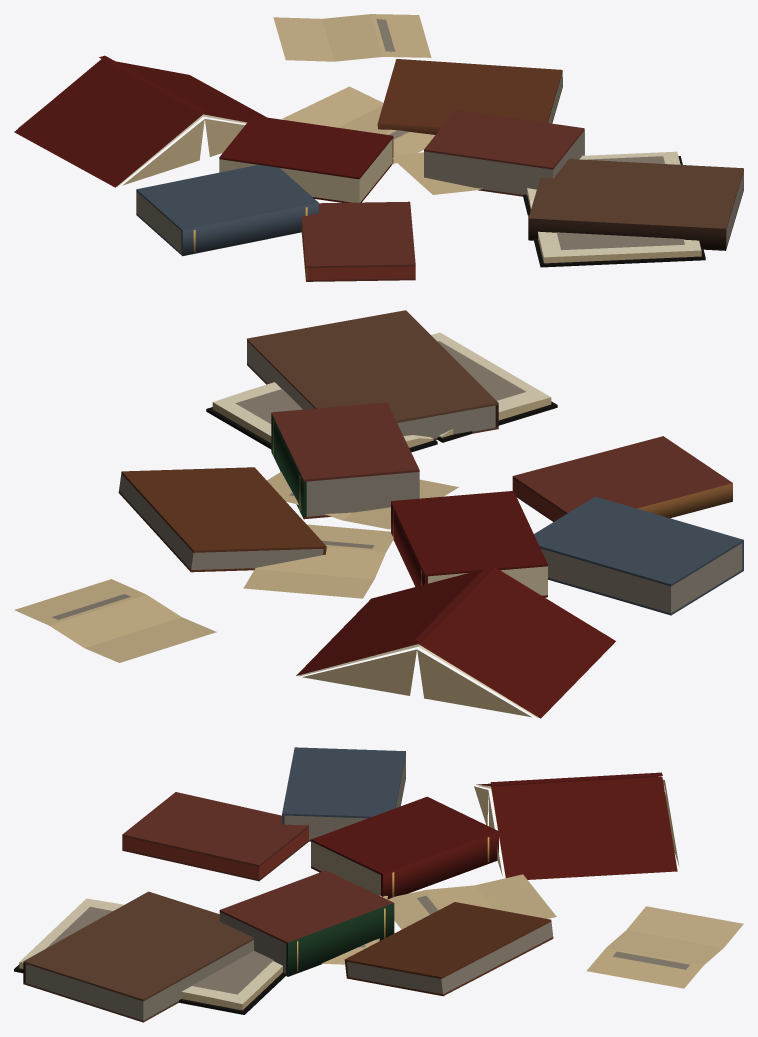
The model's file is books_fallen.glb.
3 renders of one model, top to bottom at view 1: azimuth 30°, elevation 25°; view 2: azimuth 150°, elevation 25°; view 3: azimuth 270°, elevation 25°, orthographic. The views are drawn at different scales.
Visible parts, largest first — view 1: buecher; view 2: buecher; view 3: buecher.
Boxes of the visible parts, x1,y1,x2,y2 form: buecher: (14,14,743,281); buecher: (14,310,743,718); buecher: (14,747,743,1022).
Size of the model in its own units: 0.8834 by 0.0939 by 1.1.
